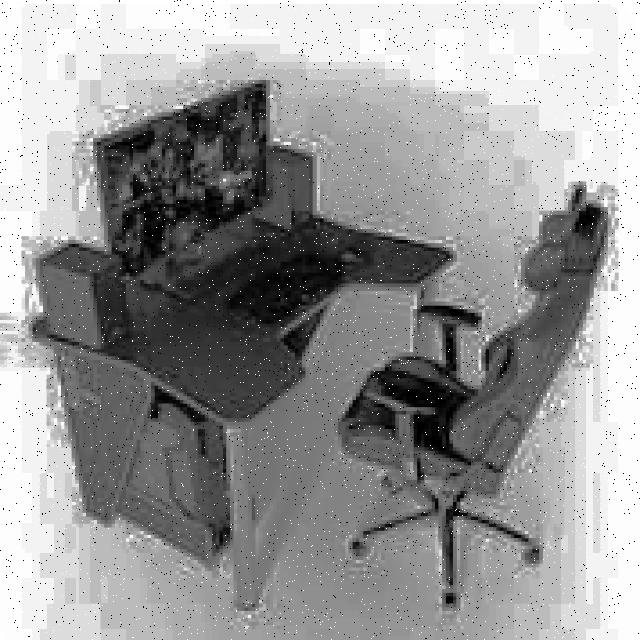book: (334, 182, 608, 607)
table: (29, 204, 453, 607)
